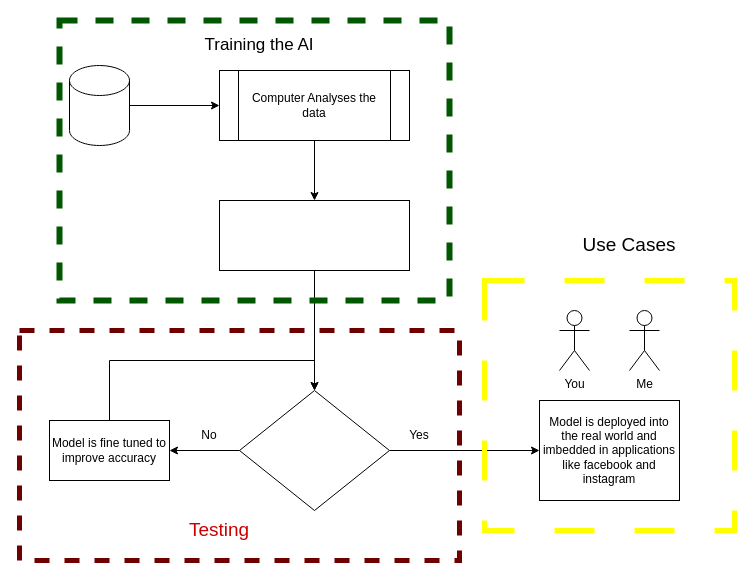
The diagram is 754 pixels wide and 580 high, and some of its shapes have lost their labels. The centre of each missing label's shape, as x and y in pixels:
Data: the point at 99,105
Is the model accurate?: the point at 314,450
The Computer comes up with a model to base its predictions on: the point at 314,235
